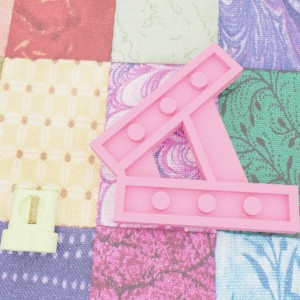lego: (88, 41, 299, 233), (0, 185, 59, 252)
